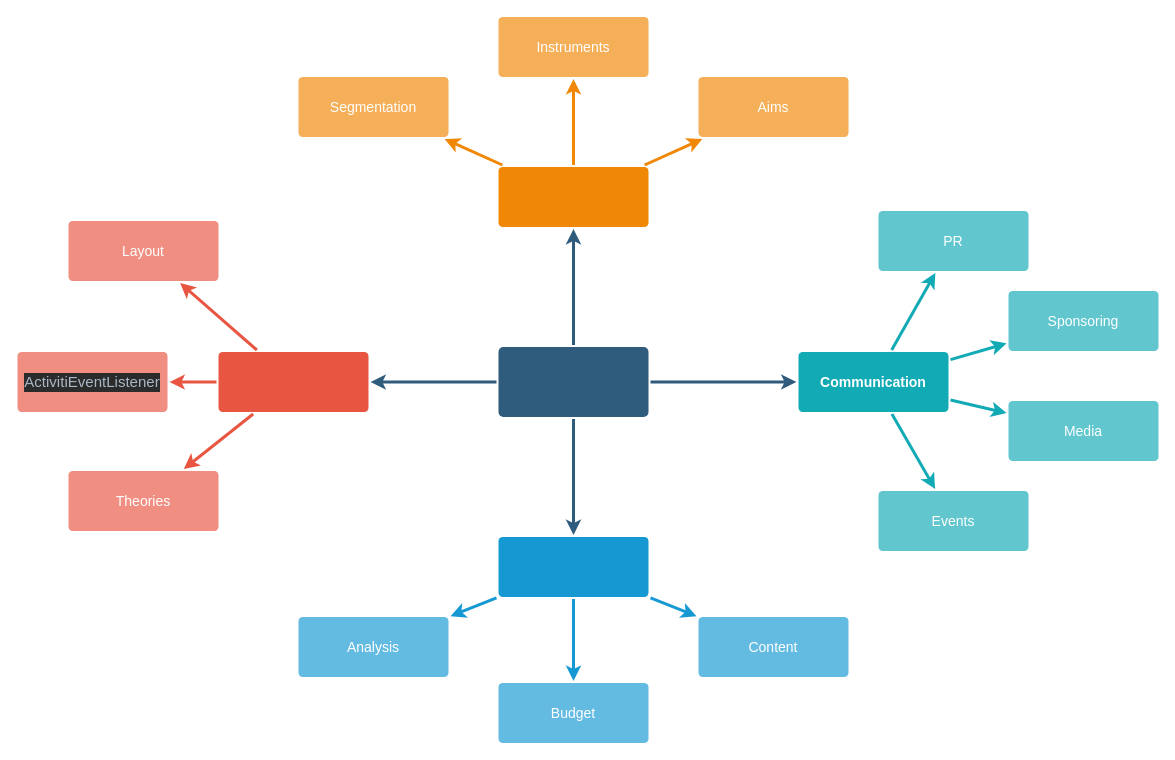
Image size: 1175x760. Some labels were removed from this diagram. The box of each missing label's shape, as (x1, y1, x2, y2) in pixels:
Advertising: (498, 346, 648, 416)
Embassy: (218, 352, 368, 412)
Marketing: (498, 166, 648, 226)
Organization: (498, 536, 648, 596)
